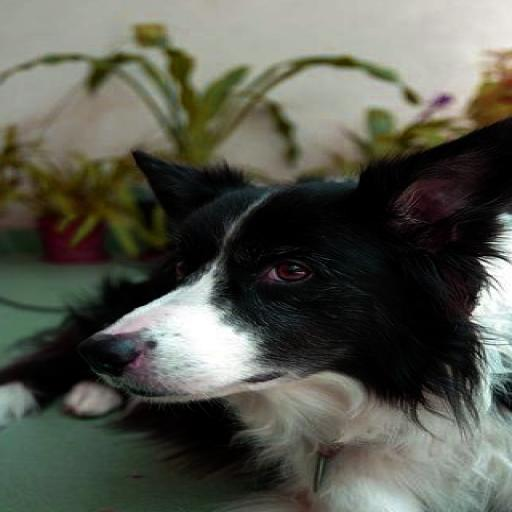dog_face: (86, 140, 512, 409)
